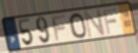5: (16, 17, 35, 47)
9: (36, 16, 52, 45)
F: (50, 14, 67, 43), (102, 7, 118, 35)
N: (83, 8, 107, 39)
O: (68, 12, 88, 40)
